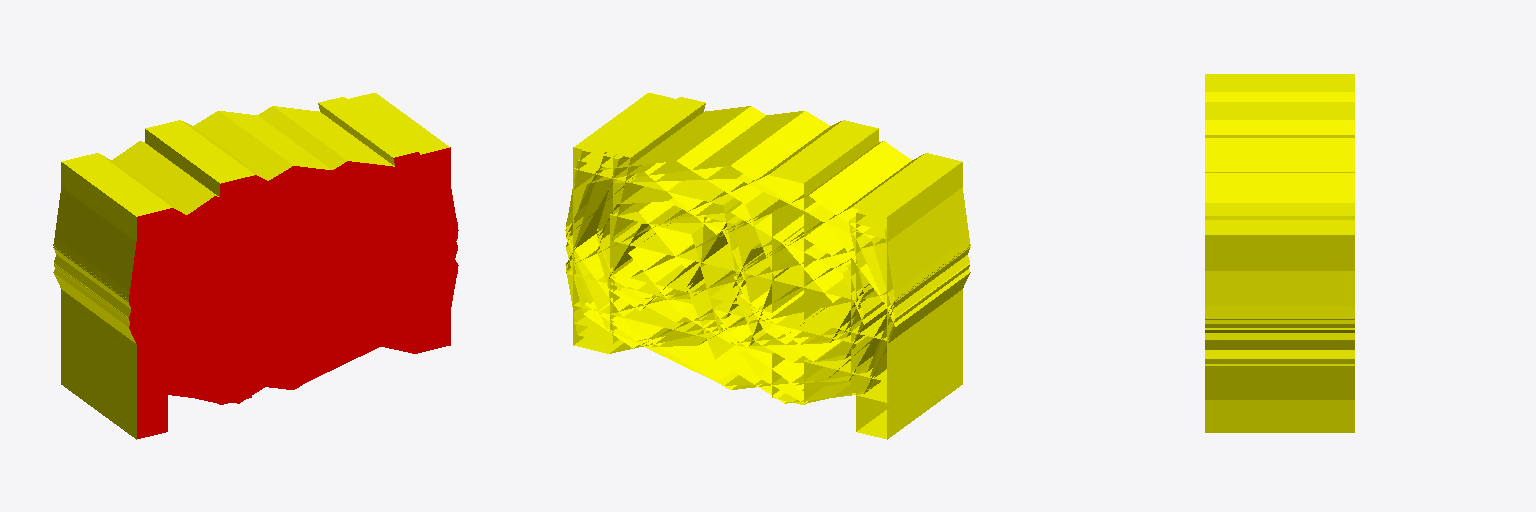
The model's file is FNTNUM.obj.
3 renders of one model, left to right at view 1: azimuth 30°, elevation 25°; view 2: azimuth 150°, elevation 25°; view 3: azimuth 270°, elevation 25°, orthographic.
Visible parts, largest first — view 1: 8, 9, 1, 7, 4, 0, 3, 2, 6, 5; view 2: 1, 0, 4, 8, 9, 6, 3, 2, 5, 7; view 3: 7, 6, 3, 2, 0, 9, 4, 1, 8, 5.
Part boxes in pixels (x1,y1,x2,y2): 8: (54, 141, 457, 403); 9: (53, 106, 457, 385); 1: (61, 97, 457, 439); 7: (67, 93, 450, 353); 4: (61, 120, 396, 404); 0: (54, 111, 457, 389); 3: (53, 160, 458, 389); 2: (61, 151, 457, 400); 6: (53, 179, 458, 403); 5: (53, 169, 450, 358); 1: (566, 97, 962, 439); 0: (567, 111, 969, 389); 4: (574, 120, 962, 404); 8: (566, 141, 969, 403); 9: (566, 106, 970, 385); 6: (565, 166, 970, 403); 3: (565, 153, 970, 391); 2: (566, 150, 962, 402); 5: (573, 163, 970, 385); 7: (573, 93, 956, 353); 7: (1205, 220, 1354, 432); 6: (1205, 350, 1354, 399); 3: (1205, 271, 1354, 327); 2: (1205, 74, 1354, 319); 0: (1205, 135, 1354, 171); 9: (1205, 172, 1354, 332); 4: (1205, 102, 1354, 134); 1: (1205, 203, 1354, 365); 8: (1205, 333, 1354, 349); 5: (1205, 256, 1354, 409).
Size of the model in its own units: 6.07 by 4.14 by 2.4.